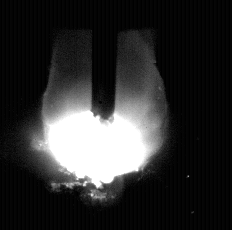arame: (92, 0, 116, 121)
poca: (42, 0, 169, 230)
